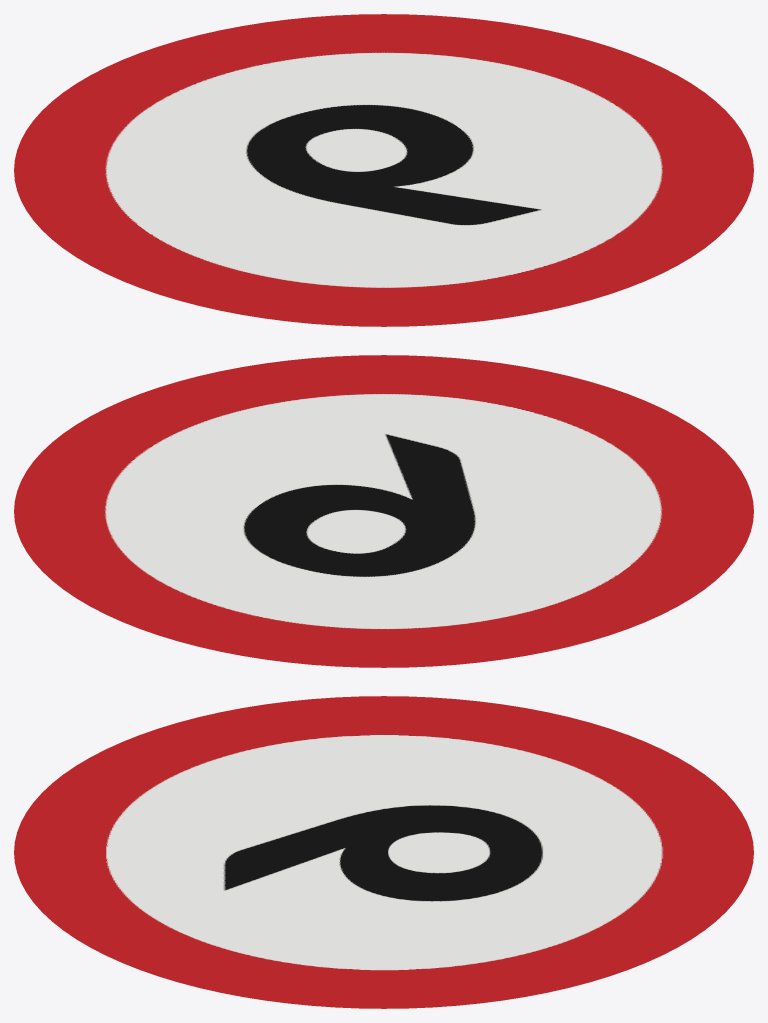
Rendered from stage_06.obj.
3 renders of one model, top to bottom at view 1: azimuth 30°, elevation 25°; view 2: azimuth 150°, elevation 25°; view 3: azimuth 270°, elevation 25°, orthographic.
Parts seen in each view (by area): view 1: stage_06; view 2: stage_06; view 3: stage_06.
Boxes of the visible parts, x1,y1,x2,y2 form: stage_06: [14, 14, 753, 326]; stage_06: [14, 355, 753, 667]; stage_06: [14, 696, 753, 1008].
Size of the model in its own units: 0.6 by 0 by 0.6.
1 material, 1 textured.
